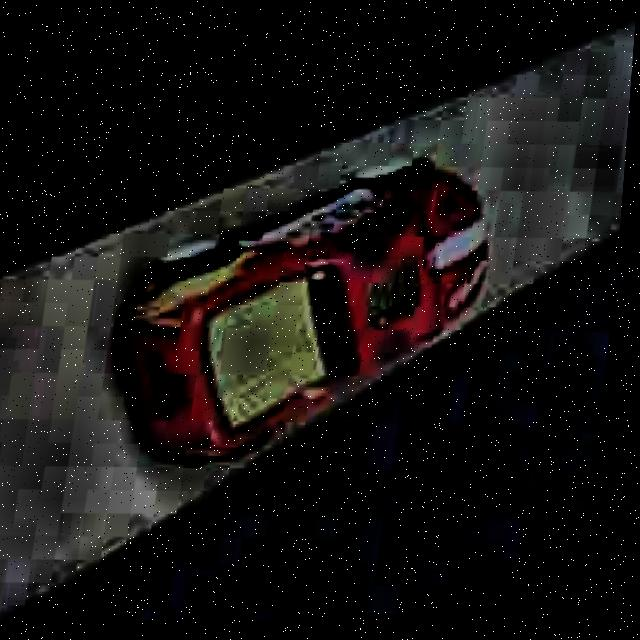car: (92, 132, 509, 492)
